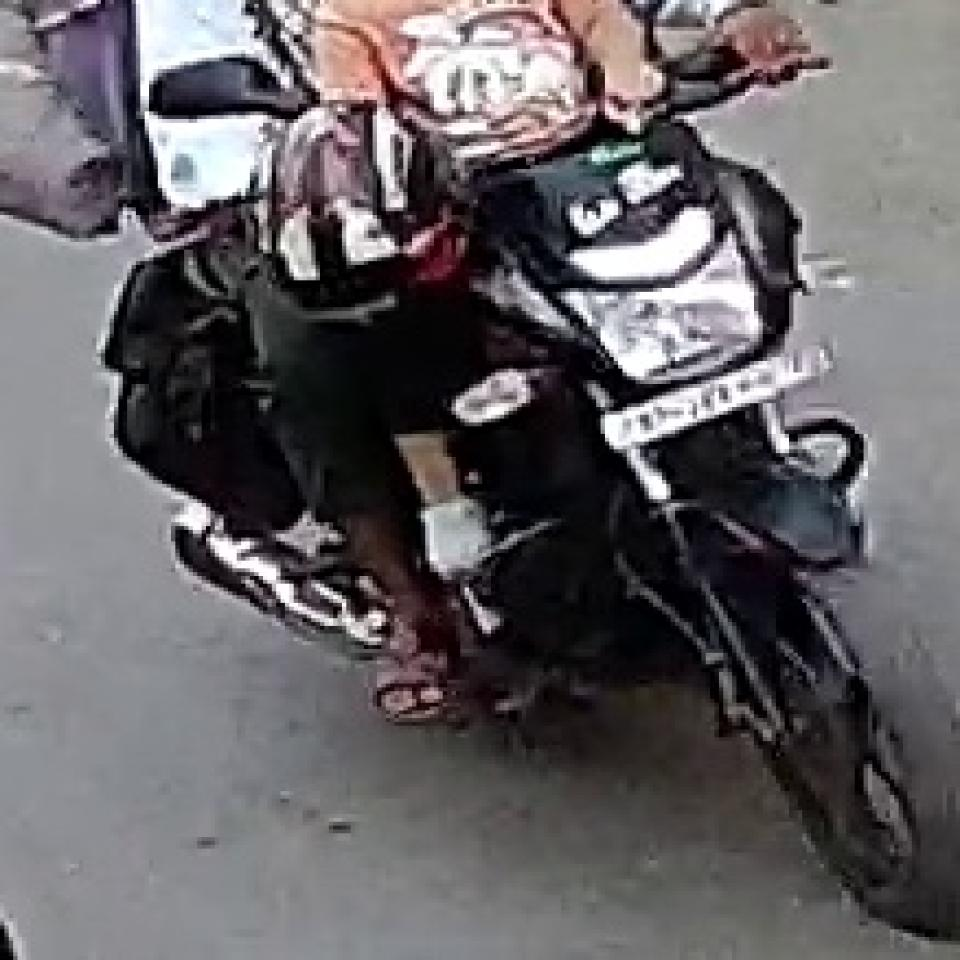head_light: (587, 249, 769, 374)
